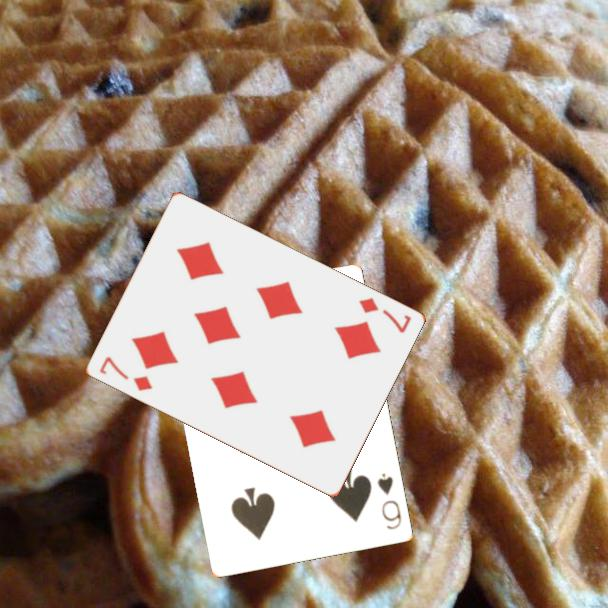d07: (355, 294, 414, 336), (95, 353, 155, 394)
s06: (374, 470, 405, 533)
